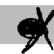not correct: (14, 5, 54, 54)
